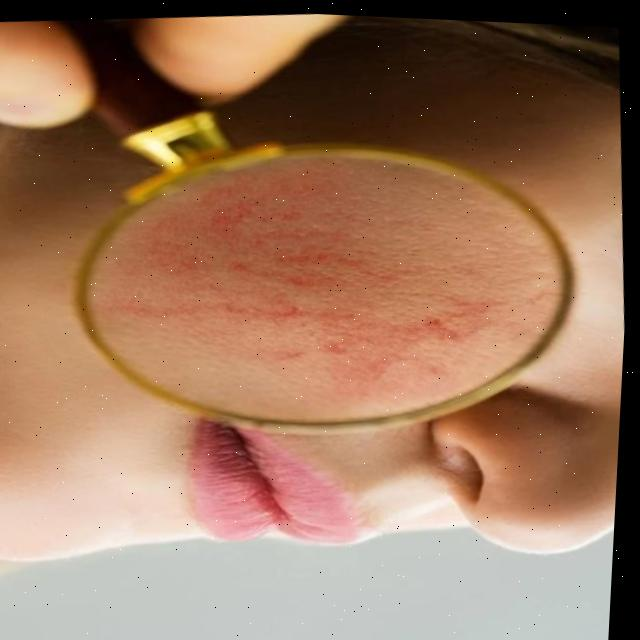Rosacea: (172, 189, 481, 404)
